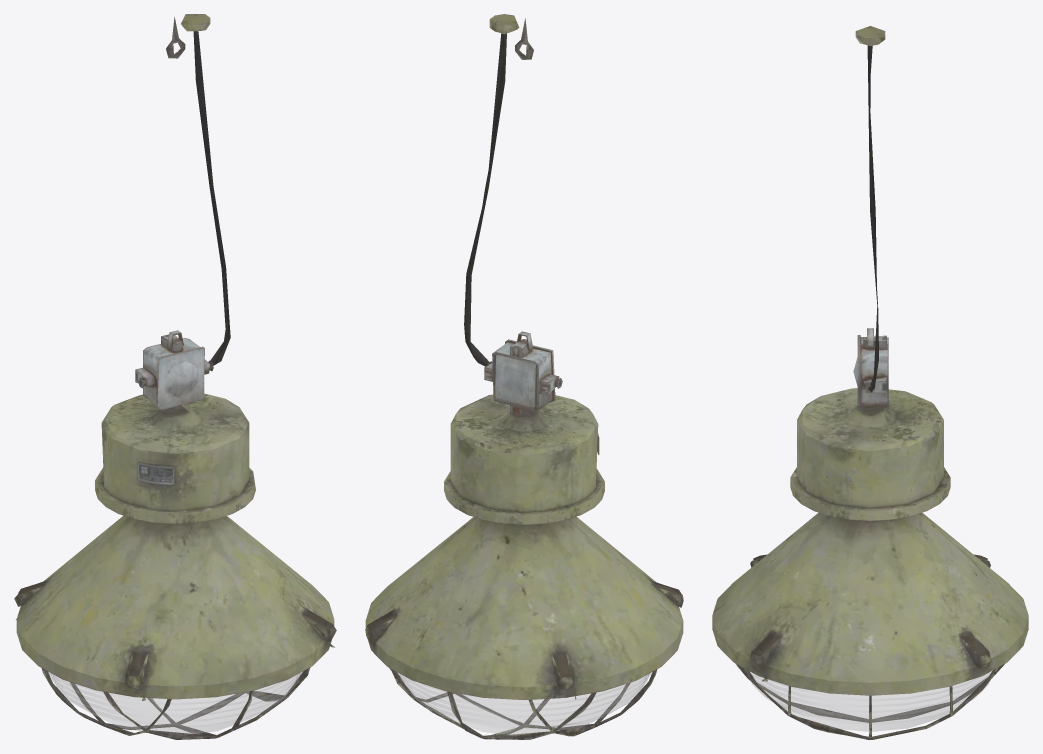
File: hanging_industrial_lamp.glb
3 renders of one model, left to right at view 1: azimuth 30°, elevation 25°; view 2: azimuth 150°, elevation 25°; view 3: azimuth 270°, elevation 25°, orthographic.
Parts seen in each view (by area): view 1: hanging_industrial_lamp; view 2: hanging_industrial_lamp; view 3: hanging_industrial_lamp.
Boxes of the visible parts, x1,y1,x2,y2 form: hanging_industrial_lamp: [14, 14, 336, 739]; hanging_industrial_lamp: [365, 14, 683, 739]; hanging_industrial_lamp: [712, 26, 1028, 739].
Bounding box in the file's own units: 0.5496 × 1.36 × 0.5496.
Materials: 2 (1 with a texture image).
